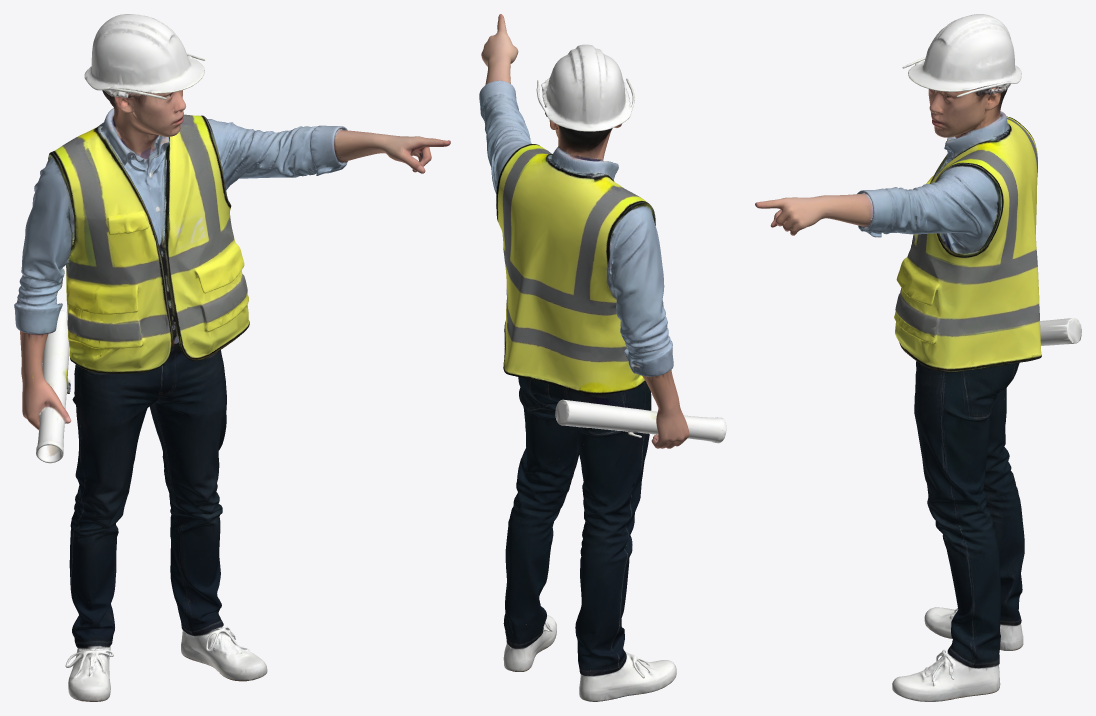
The model's file is pointing-worker.glb.
3 views of the same model, side by side, from view 1: azimuth 30°, elevation 25°; view 2: azimuth 150°, elevation 25°; view 3: azimuth 270°, elevation 25° (orthographic). The views are drawn at different scales.
Parts seen in each view (by area): view 1: Object_5; view 2: Object_5; view 3: Object_5.
Boxes of the visible parts, x1,y1,x2,y2 form: Object_5: (14,14,450,701); Object_5: (479,14,726,701); Object_5: (755,14,1081,701).
Bounding box in the file's own units: 0.9842 × 1.9 × 0.8777.
1 material, 1 textured.
